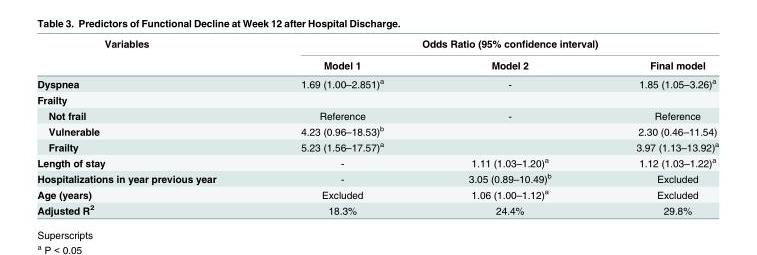table: (36, 37, 718, 215)
table column: (36, 37, 257, 215), (257, 37, 425, 215), (425, 37, 593, 215), (593, 37, 718, 215)
table column header: (36, 37, 718, 73)
table projected row header: (36, 91, 718, 107)
table row: (36, 53, 718, 73), (36, 73, 718, 91), (36, 37, 718, 53), (36, 91, 718, 107), (36, 122, 718, 138), (36, 138, 718, 154), (36, 169, 718, 185), (36, 185, 718, 201), (36, 107, 718, 122), (36, 154, 718, 169), (36, 201, 718, 215)
table spanning cell: (36, 37, 257, 73), (257, 37, 718, 53)
